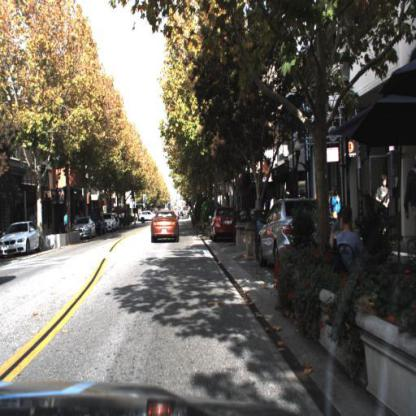car: (257, 197, 323, 275), (2, 219, 44, 259), (2, 222, 45, 261), (208, 206, 242, 244), (150, 209, 182, 247)
pedestrian: (335, 205, 373, 278), (376, 175, 392, 235), (330, 185, 343, 221), (330, 187, 342, 221), (63, 211, 72, 228), (65, 211, 70, 227)
